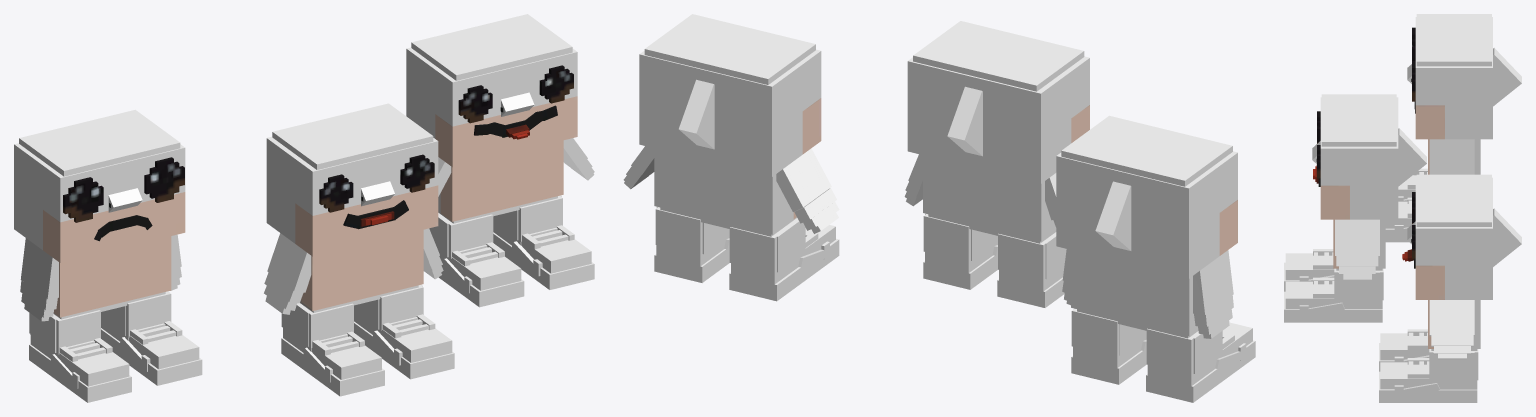
Rendered from LosTralaleritos.obj.
The picture shows the model from 3 angles, left to right: view 1: azimuth 30°, elevation 25°; view 2: azimuth 150°, elevation 25°; view 3: azimuth 270°, elevation 25°; orthographic projection. The views are drawn at different scales.
Visible parts, largest first — view 1: LosTralaleritos_3, LosTralaleritos_1, LosTralaleritos_0, LosTralaleritos_2; view 2: LosTralaleritos_3, LosTralaleritos_0, LosTralaleritos_2, LosTralaleritos_1; view 3: LosTralaleritos_3, LosTralaleritos_0, LosTralaleritos_2, LosTralaleritos_1.
Boxes of the visible parts, x1,y1,x2,y2 form: LosTralaleritos_3: (14, 14, 594, 321); LosTralaleritos_1: (43, 65, 577, 317); LosTralaleritos_0: (29, 195, 591, 386); LosTralaleritos_2: (29, 227, 594, 402); LosTralaleritos_3: (623, 14, 1237, 338); LosTralaleritos_0: (655, 207, 1252, 388); LosTralaleritos_2: (654, 232, 1255, 402); LosTralaleritos_1: (793, 98, 1237, 255); LosTralaleritos_3: (1312, 14, 1521, 359); LosTralaleritos_0: (1285, 168, 1478, 389); LosTralaleritos_2: (1284, 172, 1477, 402); LosTralaleritos_1: (1313, 27, 1444, 348).
Size of the model in its own units: 6.77 by 2.52 by 3.01.
Materials: 4 (1 with a texture image).
